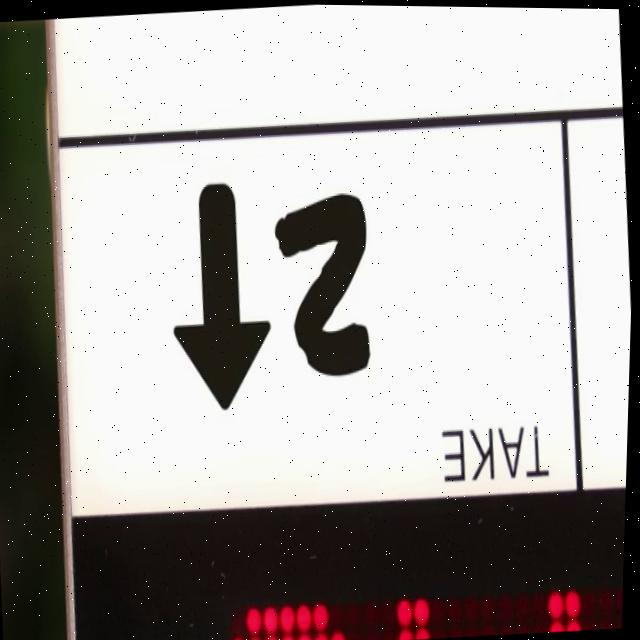Clapperboard: (19, 1, 640, 640)
